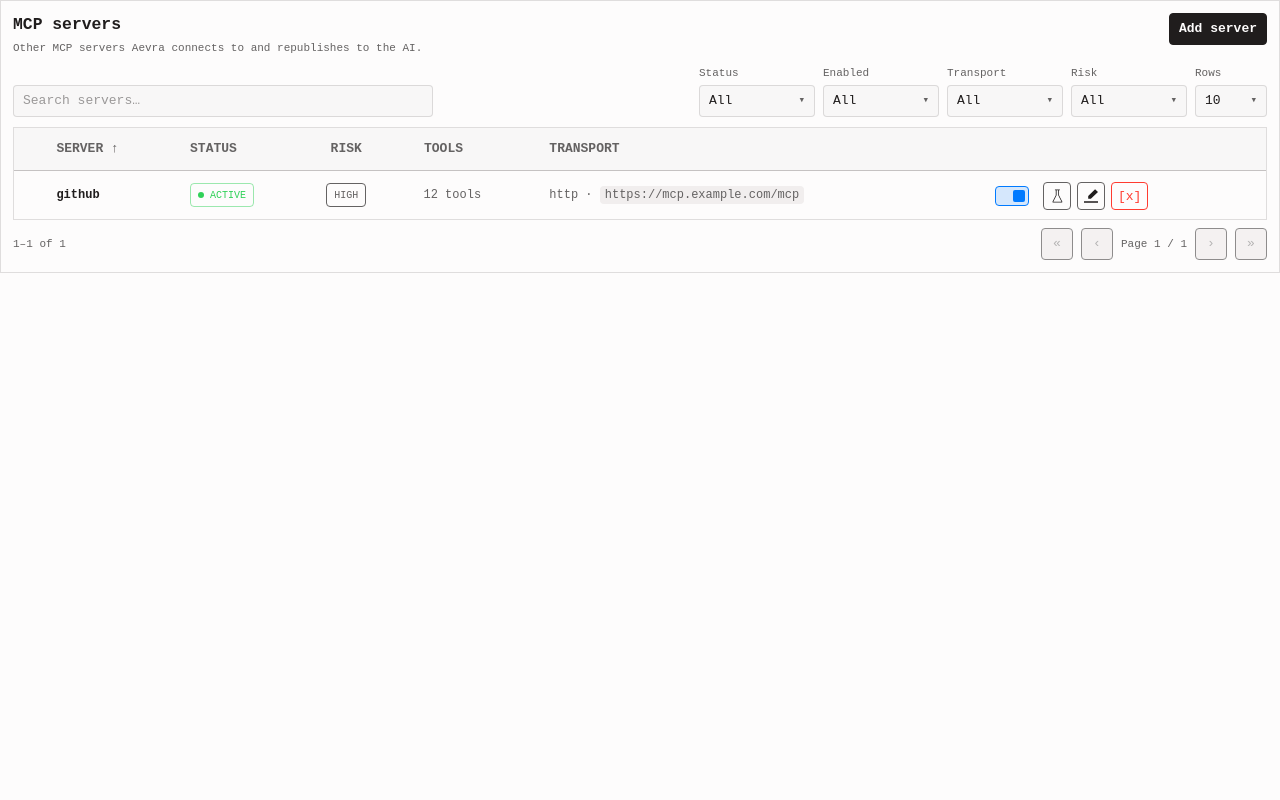
Test case: McpUpstreamsSettings › handles modal close
The image size is (1280, 800).
Click the button "Add server".
click(1218, 29)  # box [1169,13,1267,45]
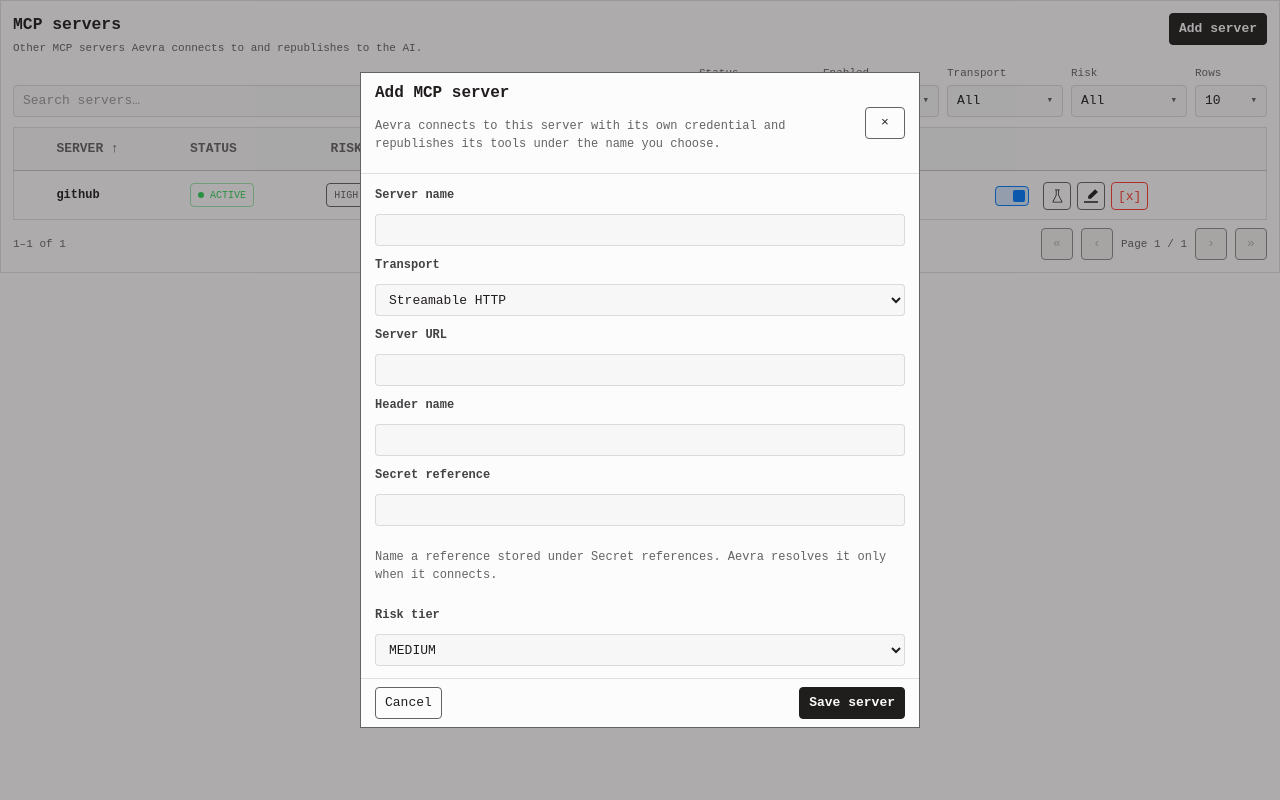
Result: the dialog "Add MCP server" is shown at [360,72,920,728]
Click the button "Cancel".
click(408, 703)  # box [375,687,442,719]
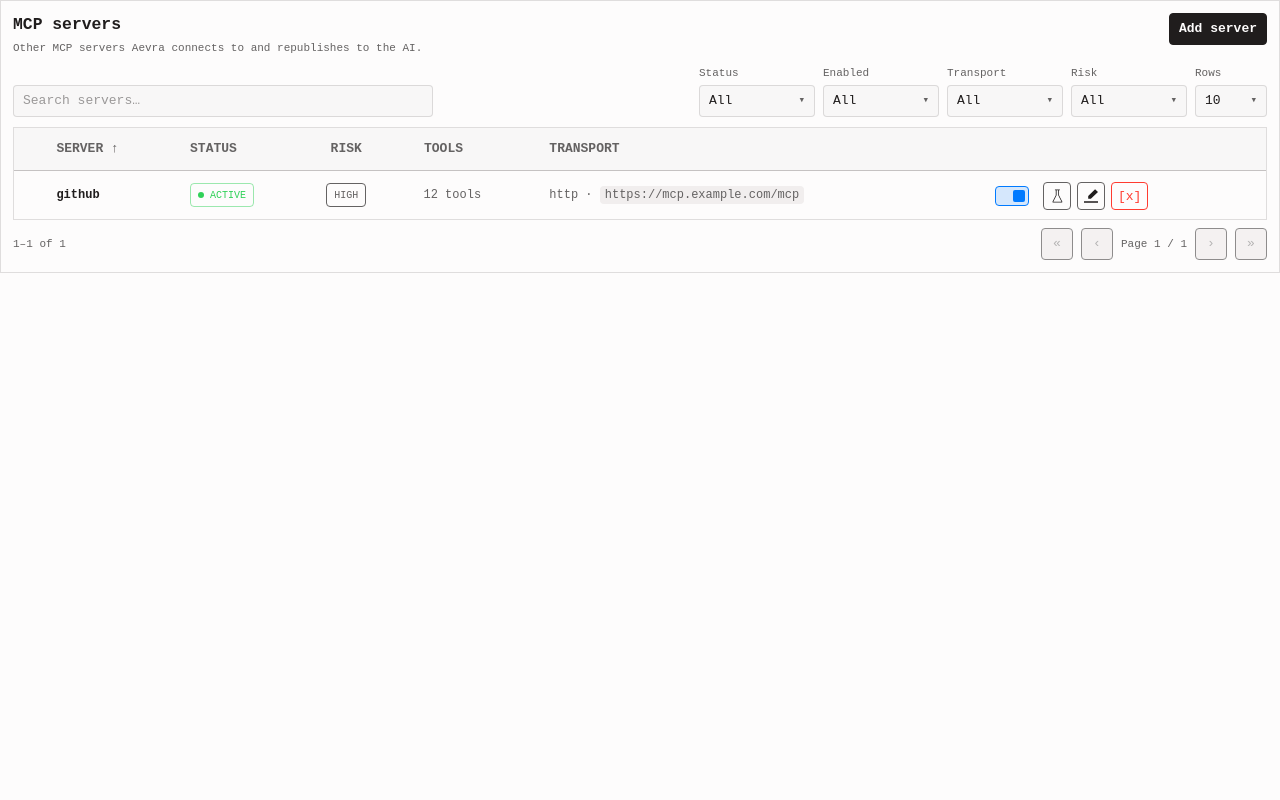
Result: the heading "Add MCP server" is gone
